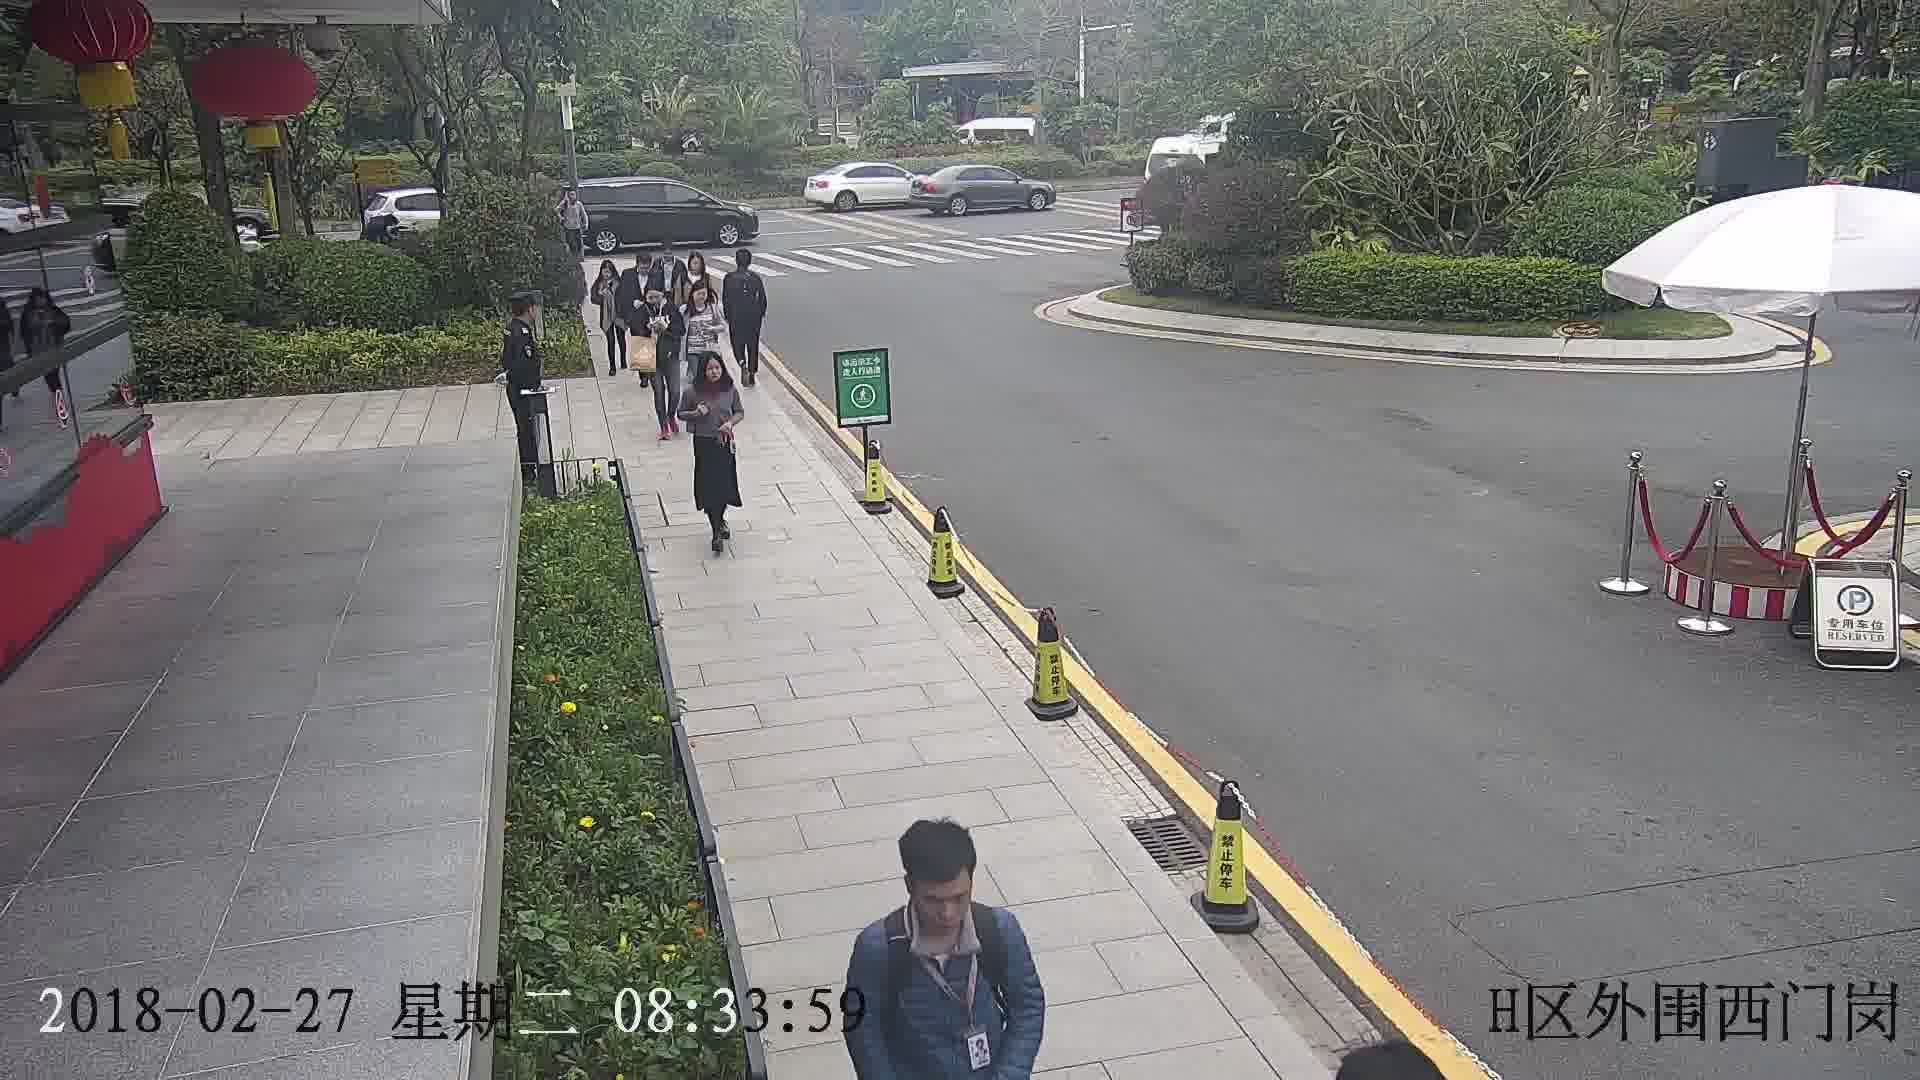face: (917, 879, 971, 933)
person: (841, 820, 1030, 983), (686, 350, 741, 403), (505, 291, 543, 344), (678, 281, 720, 323), (722, 246, 765, 284), (622, 247, 653, 282), (683, 249, 715, 282), (658, 275, 685, 315), (594, 258, 622, 293), (641, 279, 670, 314)
